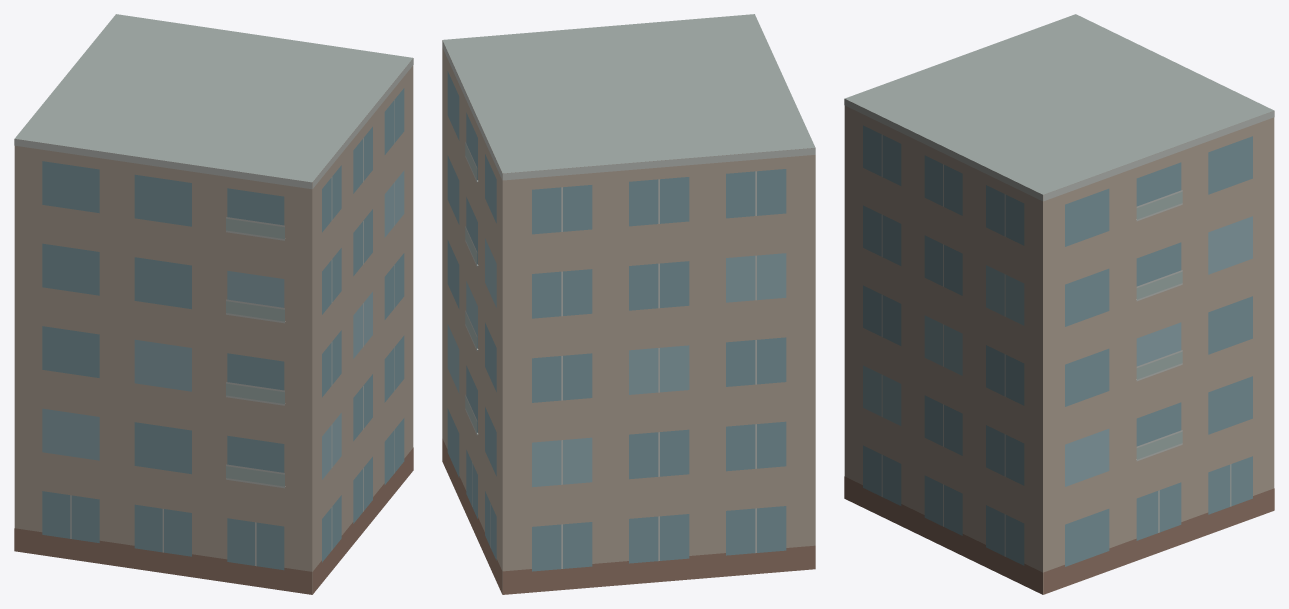
File: survey-upis-32640425.glb
The picture shows the model from 3 angles, left to right: view 1: azimuth 30°, elevation 25°; view 2: azimuth 150°, elevation 25°; view 3: azimuth 270°, elevation 25°; orthographic projection. The views are drawn at different scales.
Parts seen in each view (by area): view 1: survey-upis-32640425.tmp; view 2: survey-upis-32640425.tmp; view 3: survey-upis-32640425.tmp.
Boxes of the visible parts, bbox=[...] form: survey-upis-32640425.tmp: bbox=[14, 14, 413, 594]; survey-upis-32640425.tmp: bbox=[442, 14, 815, 594]; survey-upis-32640425.tmp: bbox=[844, 14, 1274, 594].
Bounding box in the file's own units: 14.16 × 14.6 × 14.23.
